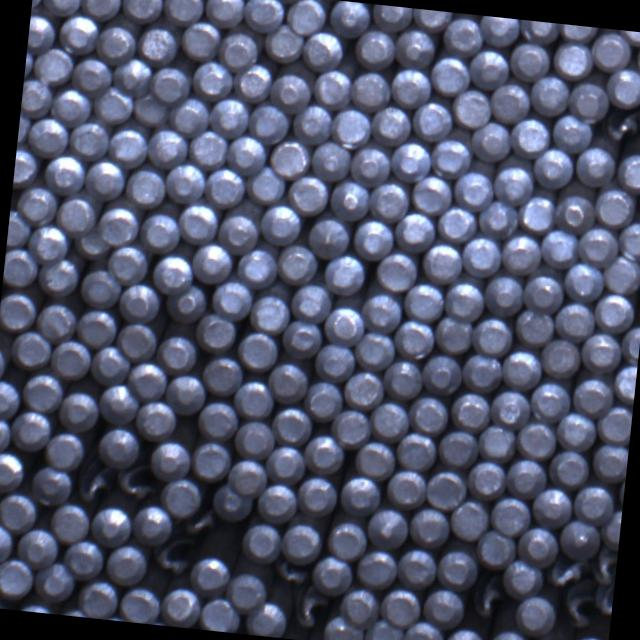tool: (260, 200, 305, 246), (97, 424, 142, 470), (304, 216, 350, 260), (177, 200, 220, 247), (388, 64, 432, 109), (388, 139, 432, 184), (147, 436, 191, 481), (348, 70, 392, 114), (16, 524, 60, 568), (10, 408, 54, 452), (352, 216, 396, 260), (508, 114, 552, 158), (428, 134, 472, 178), (274, 242, 318, 286), (104, 542, 148, 586), (572, 144, 616, 188), (266, 360, 310, 404), (279, 519, 323, 563), (504, 457, 548, 501), (217, 26, 261, 70), (300, 29, 344, 73), (375, 248, 419, 292), (90, 504, 134, 548), (33, 560, 77, 604), (96, 381, 140, 425), (28, 114, 72, 157), (96, 205, 140, 248), (105, 124, 148, 168), (424, 466, 468, 509), (206, 96, 249, 140), (500, 232, 543, 276), (324, 252, 367, 296), (368, 102, 411, 146), (442, 279, 486, 322), (165, 160, 208, 204), (84, 157, 127, 201), (180, 18, 223, 62), (590, 31, 634, 74), (487, 80, 530, 124), (191, 240, 234, 284), (409, 172, 453, 215), (11, 328, 54, 372), (45, 152, 88, 196), (190, 59, 234, 102), (76, 576, 120, 619), (268, 72, 312, 115), (530, 485, 573, 529), (21, 371, 65, 414), (136, 398, 180, 441), (491, 163, 534, 207), (163, 372, 206, 416), (340, 474, 383, 518), (394, 26, 437, 70), (49, 336, 92, 379), (204, 165, 247, 208), (553, 299, 596, 342), (567, 79, 610, 122), (145, 127, 188, 170), (330, 106, 373, 149), (348, 145, 391, 188), (469, 118, 512, 161), (392, 316, 435, 359), (196, 398, 239, 441), (501, 348, 544, 391), (529, 379, 572, 422), (256, 481, 299, 524), (393, 209, 436, 252), (106, 242, 149, 285), (476, 198, 519, 241), (488, 494, 532, 536), (529, 73, 571, 117), (468, 48, 510, 92), (532, 145, 574, 189), (308, 140, 352, 182), (246, 100, 290, 142), (412, 98, 454, 142), (59, 10, 101, 54), (452, 86, 494, 130), (241, 165, 285, 207), (422, 240, 464, 284), (378, 586, 422, 628), (160, 584, 202, 628), (354, 547, 398, 589), (289, 280, 331, 324), (296, 474, 338, 518), (36, 256, 80, 298), (442, 15, 486, 57), (552, 192, 596, 234), (558, 519, 602, 561), (118, 281, 162, 323), (80, 268, 124, 310), (362, 289, 404, 333), (210, 278, 253, 320), (549, 112, 592, 154), (288, 171, 330, 214), (514, 594, 557, 636), (185, 128, 228, 170), (49, 84, 92, 126), (132, 501, 174, 544), (36, 302, 79, 344), (450, 389, 492, 432), (328, 178, 371, 220), (592, 290, 634, 333), (428, 54, 471, 96), (95, 24, 138, 66), (368, 399, 411, 441), (16, 183, 59, 225), (550, 40, 593, 82), (167, 94, 210, 136), (576, 225, 619, 267), (311, 554, 354, 596), (420, 352, 463, 394), (151, 252, 194, 294), (521, 272, 564, 314), (572, 374, 615, 416), (580, 331, 622, 374), (270, 404, 313, 446), (240, 520, 282, 563), (421, 588, 464, 630), (195, 312, 238, 354), (338, 584, 381, 626), (200, 354, 242, 397), (369, 504, 412, 546), (116, 320, 160, 361), (268, 138, 312, 179), (28, 223, 72, 264), (448, 497, 489, 541), (325, 518, 367, 560), (508, 39, 550, 81), (354, 27, 396, 69), (76, 307, 118, 349), (516, 526, 558, 568), (396, 429, 438, 471), (264, 22, 306, 64), (124, 167, 166, 209), (290, 102, 332, 144), (250, 292, 292, 334), (461, 236, 503, 278), (138, 24, 180, 66), (236, 246, 278, 288), (90, 344, 132, 386), (160, 475, 202, 517), (324, 304, 366, 346), (453, 170, 495, 212), (368, 180, 410, 222), (226, 570, 268, 612), (140, 211, 182, 253), (404, 280, 446, 322), (554, 411, 596, 453), (50, 502, 92, 544), (396, 546, 438, 588), (562, 260, 604, 302), (490, 389, 532, 431), (226, 132, 268, 174), (514, 304, 556, 346), (436, 548, 478, 590), (303, 434, 345, 476), (408, 504, 450, 546), (574, 482, 616, 524), (474, 530, 516, 572), (57, 390, 99, 432), (191, 552, 233, 594), (190, 438, 231, 481), (467, 458, 508, 501), (109, 54, 152, 95), (236, 329, 279, 370), (303, 378, 344, 421), (482, 274, 523, 317), (461, 351, 504, 392), (218, 213, 261, 254), (90, 86, 134, 126), (538, 226, 579, 268), (594, 186, 636, 227), (329, 407, 371, 448), (233, 62, 274, 104), (57, 195, 99, 236), (236, 418, 278, 459), (354, 331, 396, 372), (165, 283, 207, 324), (63, 538, 106, 578), (471, 316, 514, 356), (68, 118, 111, 158), (31, 46, 74, 86), (313, 66, 353, 109), (120, 584, 163, 624), (384, 358, 424, 401), (387, 467, 428, 508), (550, 447, 591, 488), (233, 377, 274, 418), (150, 65, 192, 105), (344, 370, 386, 410), (355, 439, 397, 479), (282, 318, 324, 358), (514, 420, 556, 460), (540, 336, 580, 378), (128, 356, 170, 396), (436, 427, 478, 467), (518, 192, 558, 234), (313, 342, 355, 382), (503, 558, 545, 598), (158, 332, 199, 372), (45, 429, 86, 469), (434, 314, 475, 354), (410, 394, 451, 434), (0, 491, 39, 533), (327, 0, 371, 37), (212, 482, 252, 522), (227, 456, 268, 495), (265, 445, 306, 484), (199, 595, 241, 633), (244, 600, 286, 638), (438, 204, 478, 243), (476, 423, 516, 462), (2, 245, 40, 286), (73, 56, 114, 94), (0, 290, 37, 332), (285, 0, 328, 36), (605, 66, 640, 110), (130, 89, 170, 127), (592, 440, 628, 482), (596, 404, 632, 446), (604, 253, 640, 293), (241, 0, 285, 32), (0, 558, 32, 601), (20, 76, 54, 116), (75, 227, 112, 261), (478, 15, 518, 46), (27, 12, 56, 54), (369, 4, 411, 32), (203, 0, 245, 28), (321, 614, 364, 640), (0, 448, 25, 492), (615, 151, 640, 194), (161, 0, 204, 24), (13, 146, 40, 184), (120, 0, 164, 23), (6, 212, 32, 250), (617, 219, 640, 261), (613, 364, 637, 404), (520, 20, 560, 44), (400, 618, 443, 640), (362, 617, 403, 640), (412, 8, 453, 30), (601, 506, 622, 548), (620, 324, 640, 368), (80, 0, 121, 20), (0, 378, 21, 417), (556, 24, 598, 42), (40, 0, 83, 17), (16, 108, 32, 148), (486, 626, 529, 640), (443, 626, 486, 640), (15, 600, 57, 614), (0, 520, 13, 562), (0, 413, 12, 453), (54, 606, 94, 618), (24, 44, 35, 81), (617, 30, 640, 46), (0, 343, 6, 385), (31, 0, 45, 9)
tool_b: (556, 581, 600, 632), (288, 586, 329, 632), (152, 534, 194, 578), (468, 575, 506, 622), (74, 464, 116, 505), (113, 462, 155, 502), (544, 555, 584, 590), (604, 108, 640, 145), (588, 544, 618, 584), (272, 556, 312, 586), (182, 510, 218, 540), (594, 581, 614, 615)
